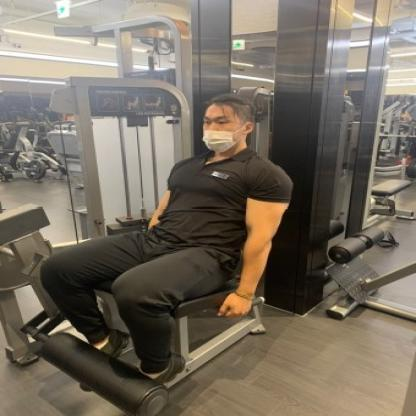leg extension: (0, 71, 335, 416)
